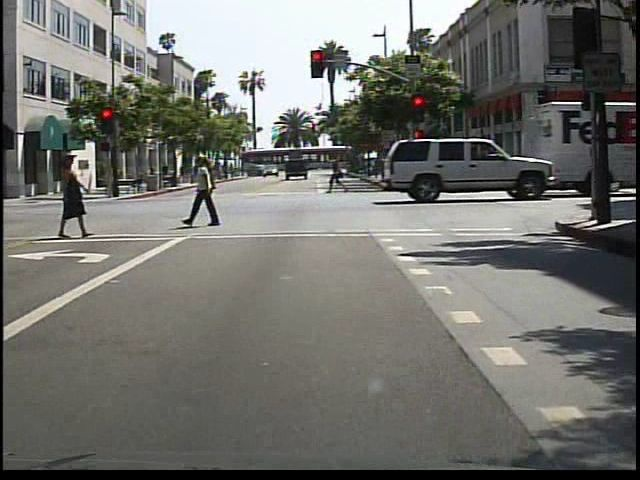person: (54, 147, 97, 241), (187, 154, 226, 230), (328, 149, 353, 196), (160, 160, 173, 185), (2, 151, 3, 243)
